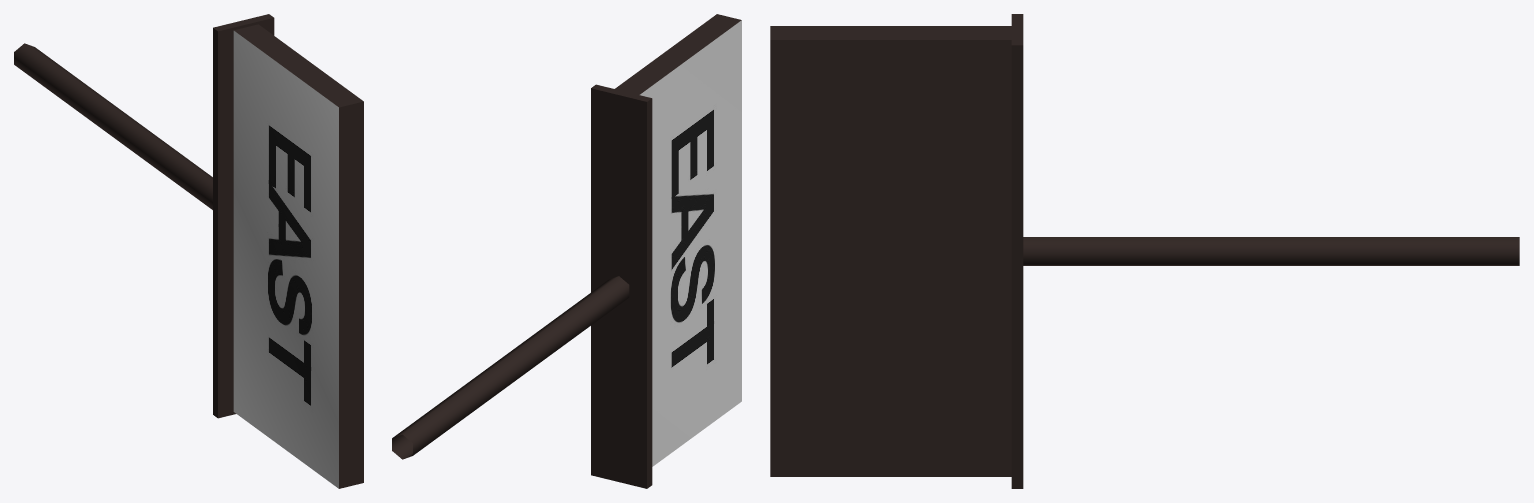
The model's file is east.obj.
3 views of the same model, side by side, from view 1: azimuth 30°, elevation 25°; view 2: azimuth 150°, elevation 25°; view 3: azimuth 270°, elevation 25° (orthographic). The views are drawn at different scales.
Parts seen in each view (by area): view 1: east; view 2: east; view 3: east.
Part boxes in pixels (<box>): east: <box>14,14,363,488</box>; east: <box>392,14,741,488</box>; east: <box>770,14,1519,488</box>.
Bounding box in the file's own units: 1.4 × 9.22 × 14.12.
2 materials, 1 textured.
